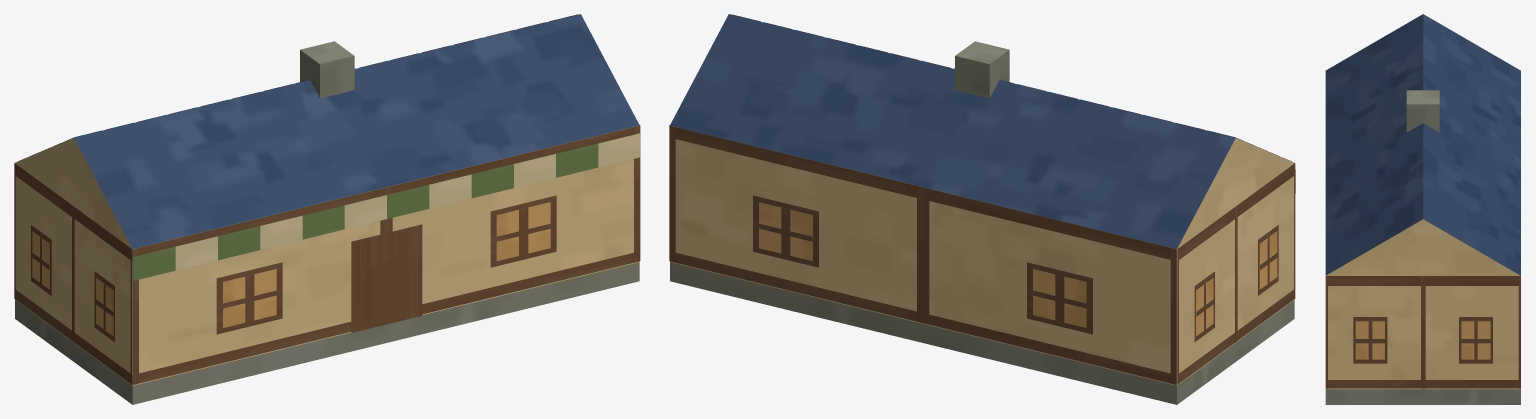
The model's file is alderwake_shop_pilot.glb.
3 views of the same model, side by side, from view 1: azimuth 30°, elevation 25°; view 2: azimuth 150°, elevation 25°; view 3: azimuth 270°, elevation 25° (orthographic). The views are drawn at different scales.
Parts seen in each view (by area): view 1: GEO-reed-chandlery; view 2: GEO-reed-chandlery; view 3: GEO-reed-chandlery.
Part boxes in pixels (x1=…): GEO-reed-chandlery: x1=14, y1=14, x2=640, y2=404; GEO-reed-chandlery: x1=669, y1=14, x2=1295, y2=404; GEO-reed-chandlery: x1=1325, y1=14, x2=1520, y2=404.
Size of the model in its own units: 5.3 by 2.46 by 2.15.
1 material, 1 textured.
